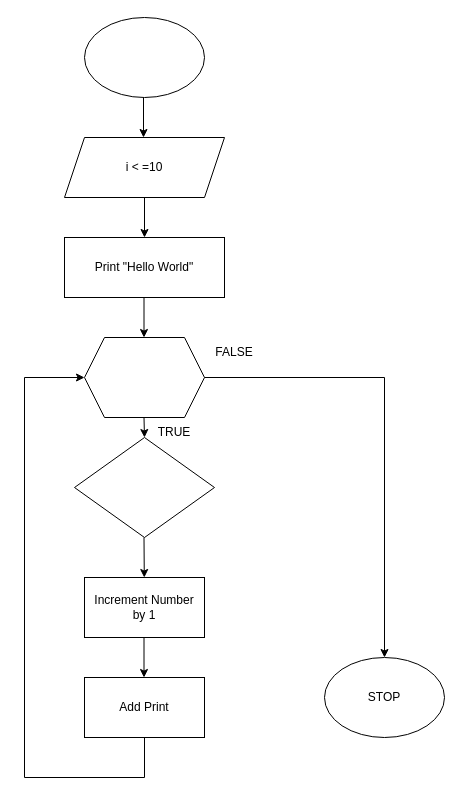
Image size: 462x796. Some labels were removed from this diagram. Each missing label, with the centre of its shape:
DO: the point at 144,377
IF "Hello World" < 10: the point at 144,487
START: the point at 144,57
